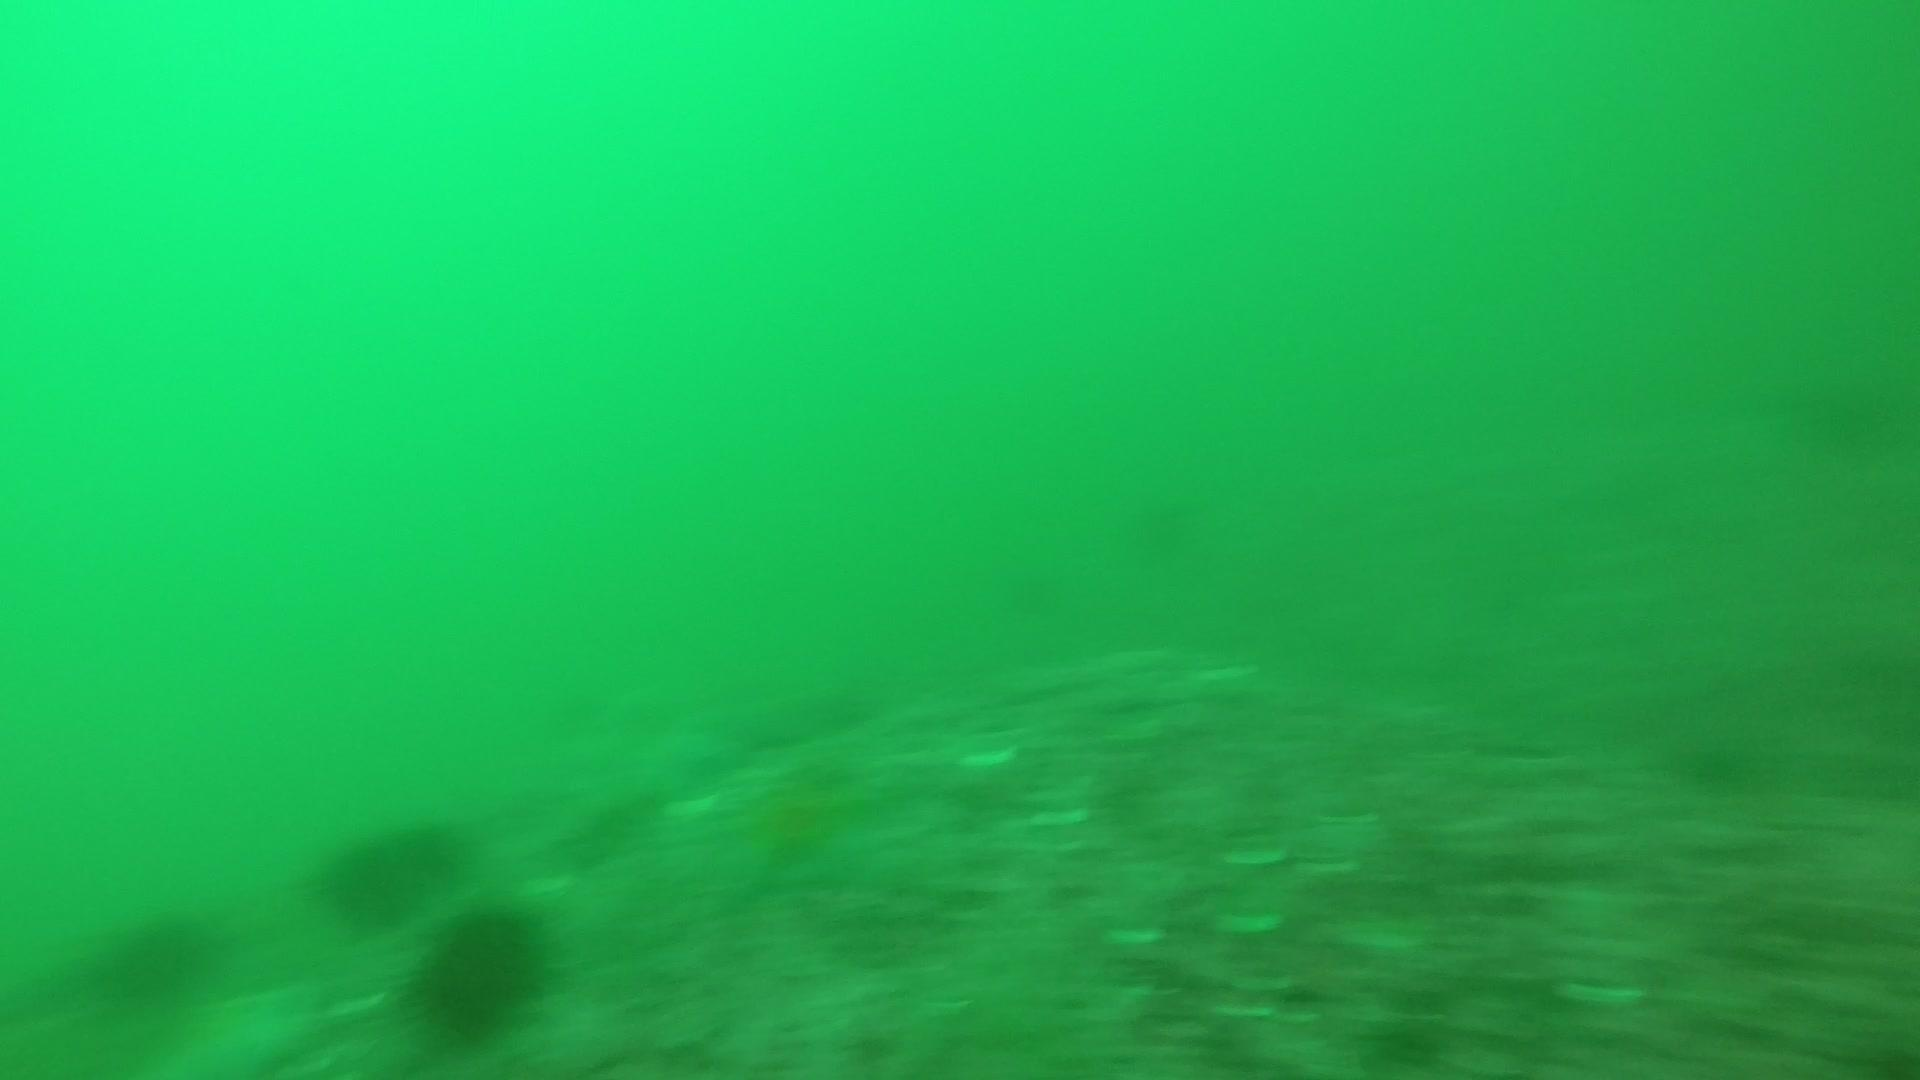echinus: (405, 898, 556, 1043), (315, 810, 469, 926), (88, 902, 223, 1007)
starfish: (684, 748, 895, 902), (150, 977, 322, 1079)
